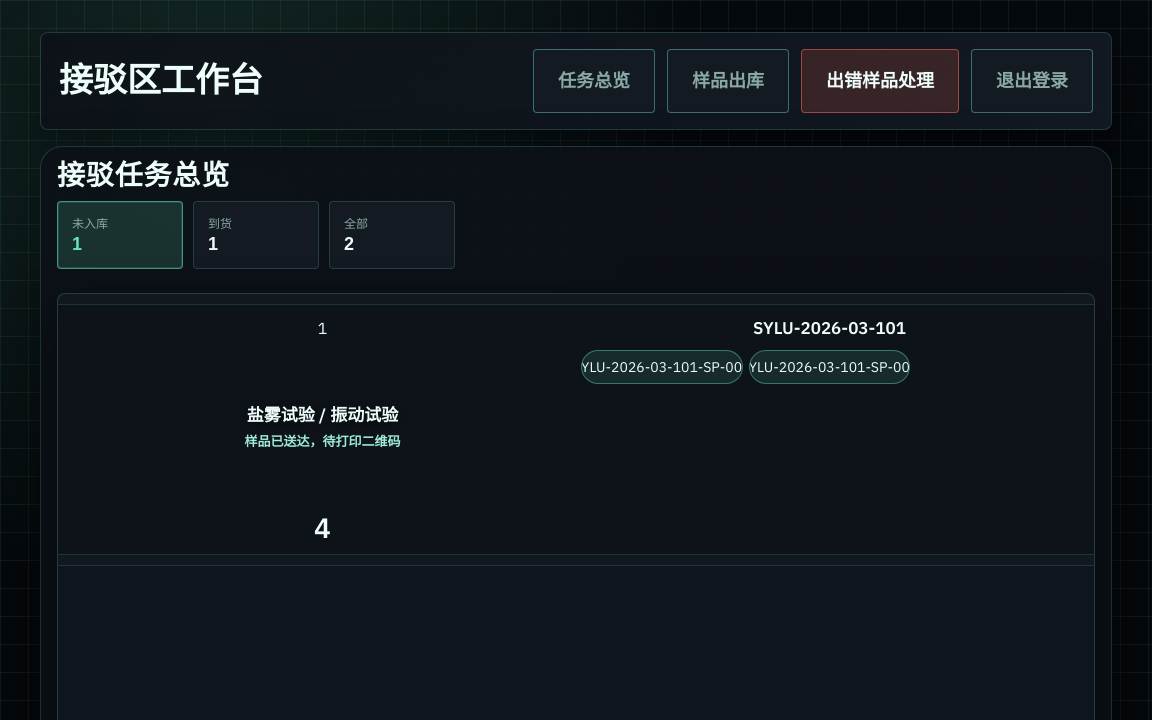
TransferWorkbench runtime › handover error sample dialog withdraws a staging tray back to arrived status
This screenshot has width=1152, height=720.
Click the button with test id "handover-error-sample". click: {"x": 880, "y": 81}
box: [801,49,959,113]
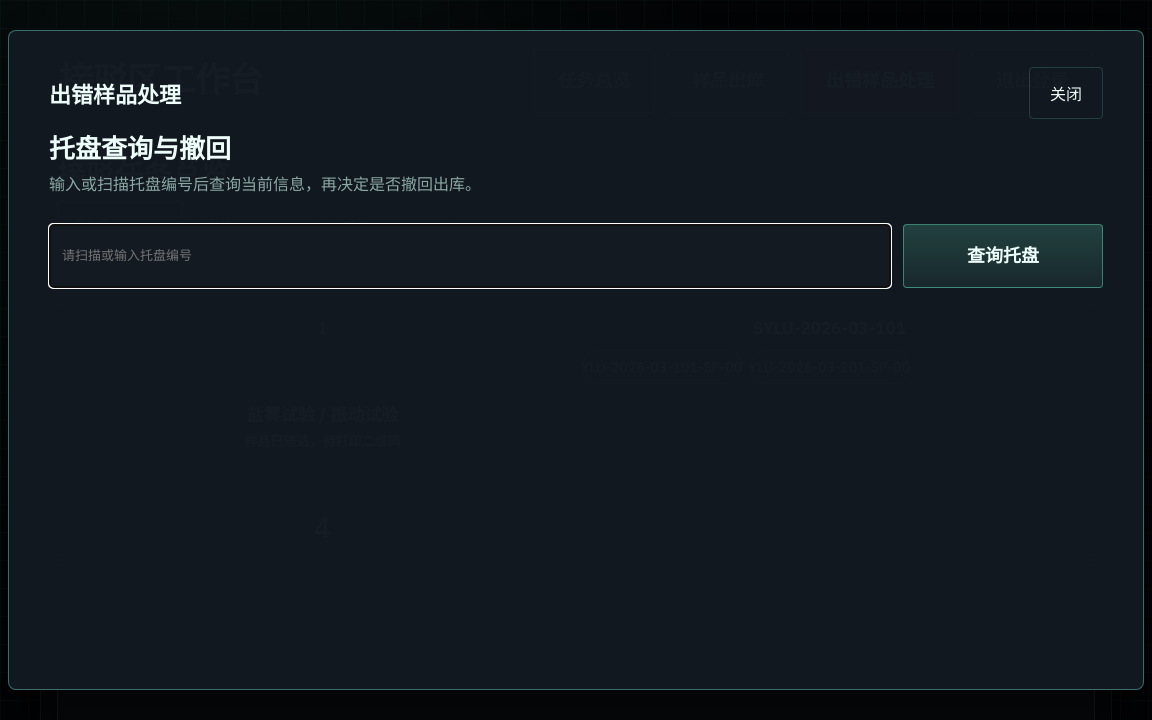
Type "SYLU-2026-03-102-TP-001" into the field with test id "tray-error-sample-scan-input". click: {"x": 470, "y": 256}
box: [49,224,891,288]
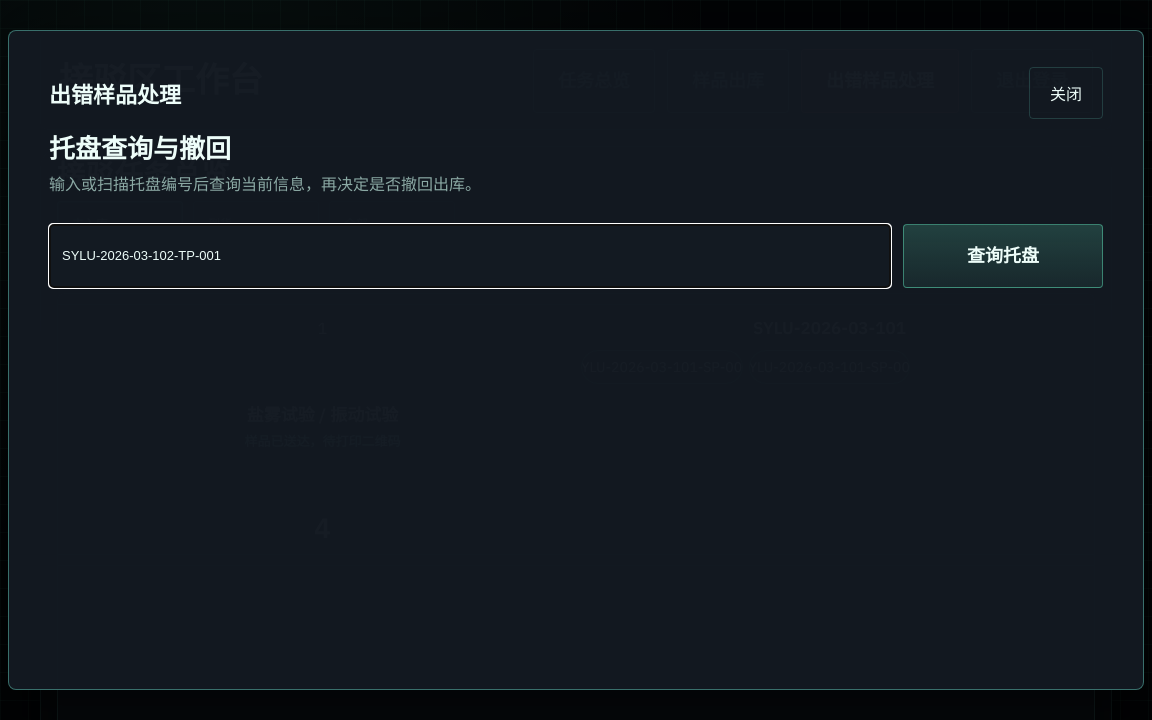
Click the button with test id "tray-error-sample-query". click: {"x": 1003, "y": 256}
box: [903,224,1103,288]
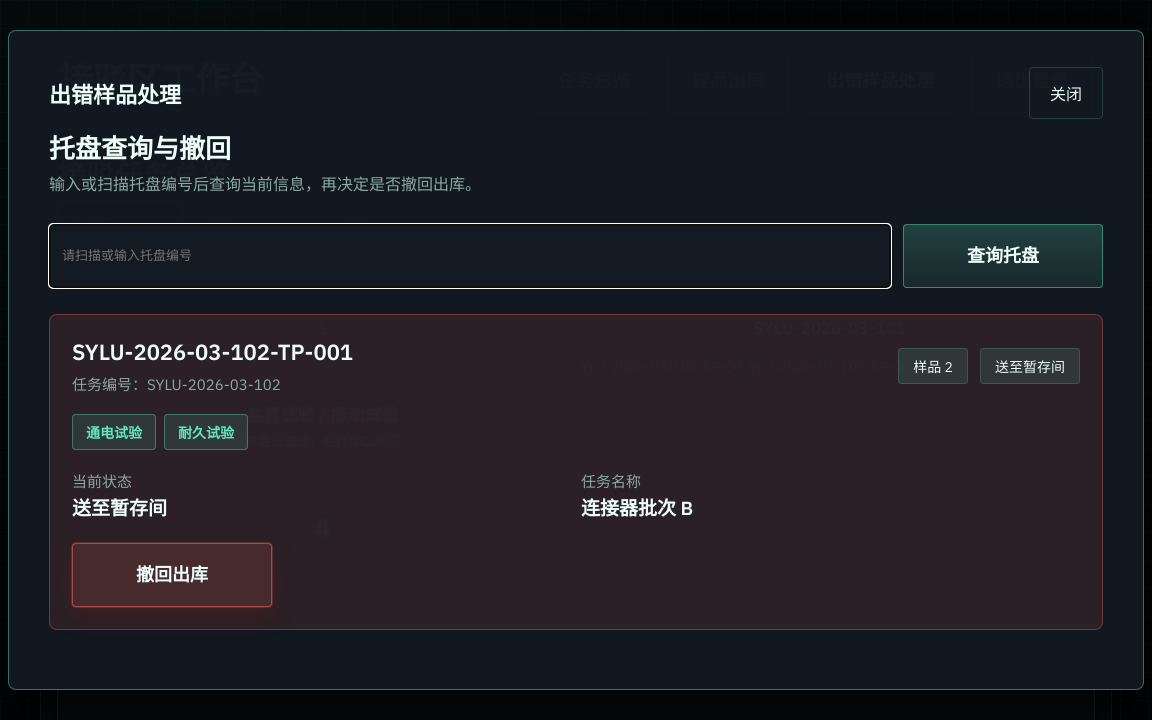
Result: the element with test id "tray-error-sample-result" shows "送至暂存间" at [995,358,1065,376]
Result: the button with test id "tray-error-sample-withdraw" is shown
Click the button with test id "tray-error-sample-withdraw". click: {"x": 172, "y": 575}
box: [72,543,272,607]
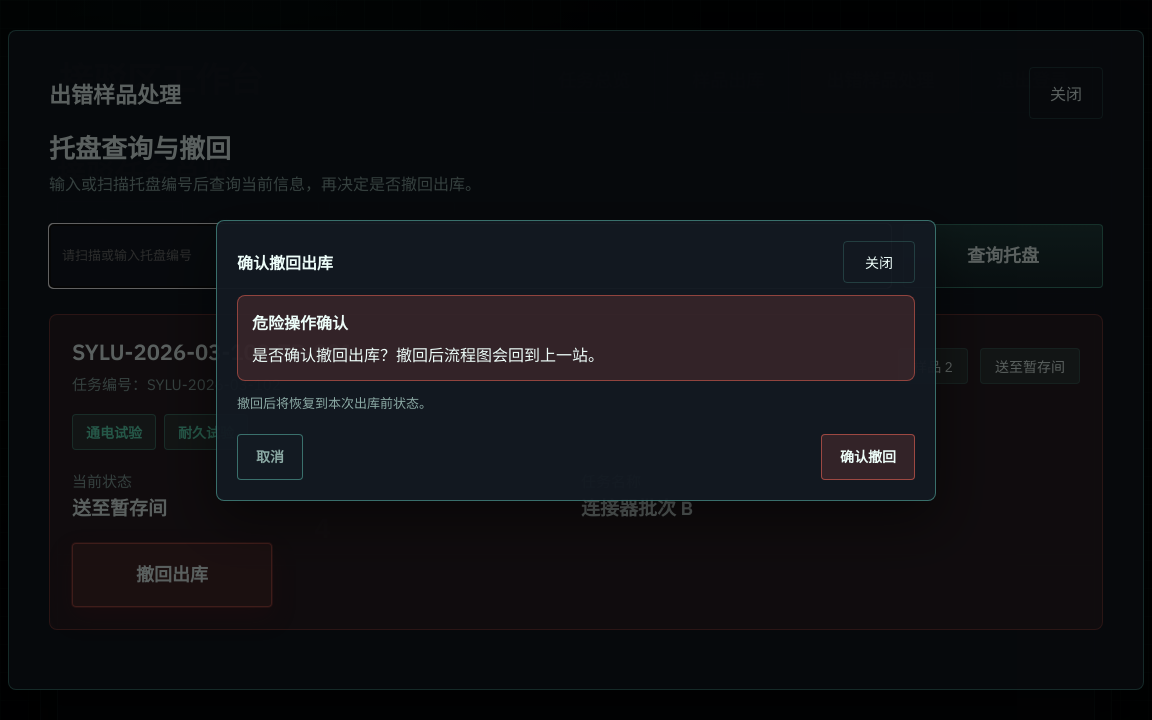
Click the button with test id "tray-error-sample-withdraw-confirm". click: {"x": 868, "y": 456}
box: [821,434,915,480]
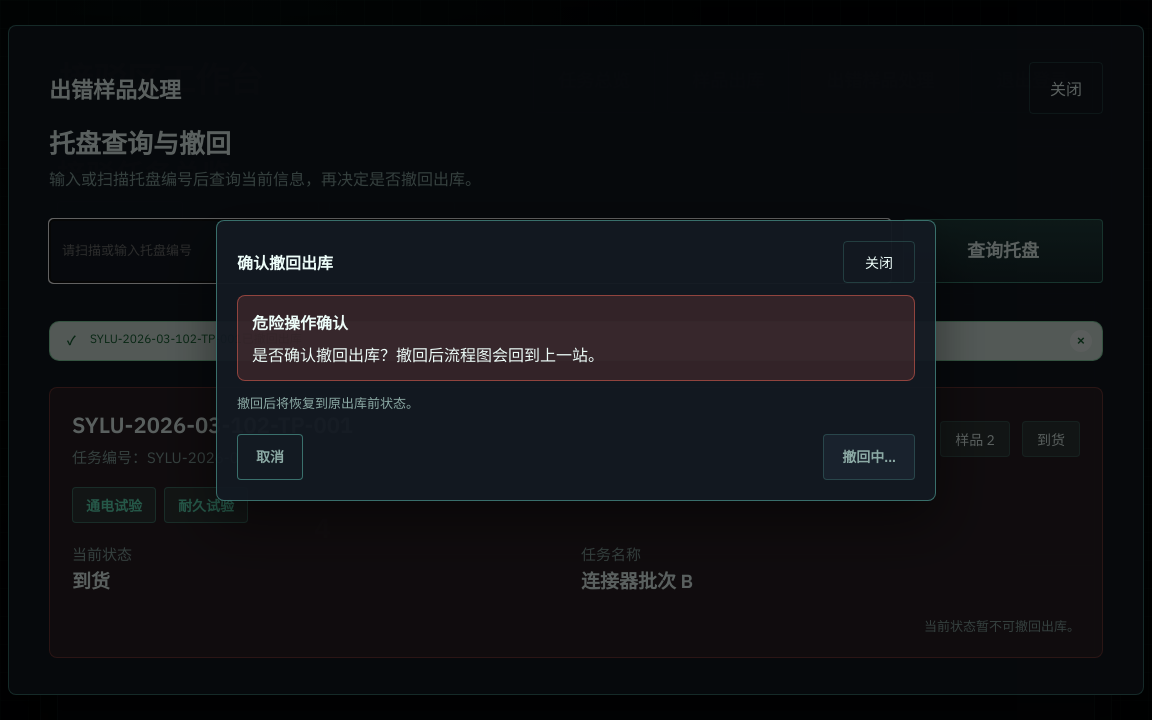
Result: the text "SYLU-2026-03-102-TP-001已撤回出库" is shown at [90,331,302,346]
Result: the element with test id "tray-error-sample-result" shows "到货" at [1037,431,1065,449]
